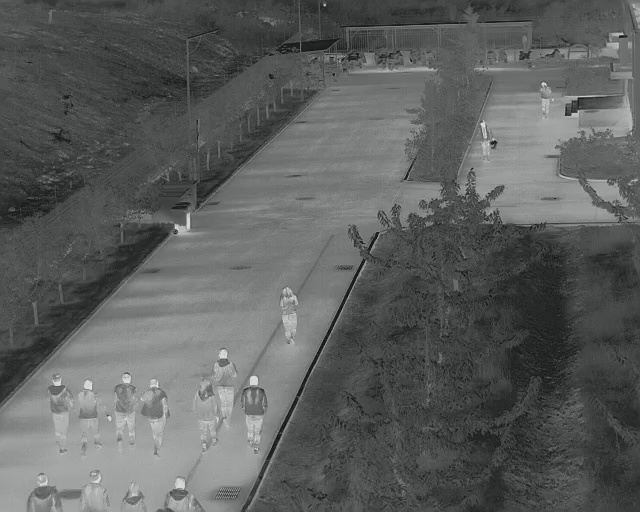person: (75, 378, 112, 458), (139, 377, 173, 457), (42, 373, 73, 456), (213, 345, 240, 429), (240, 375, 269, 453), (113, 372, 140, 454), (191, 378, 219, 456), (25, 470, 65, 511), (164, 475, 204, 512), (78, 469, 112, 511), (278, 284, 301, 344), (477, 119, 498, 164), (536, 79, 558, 120), (120, 482, 148, 512)
